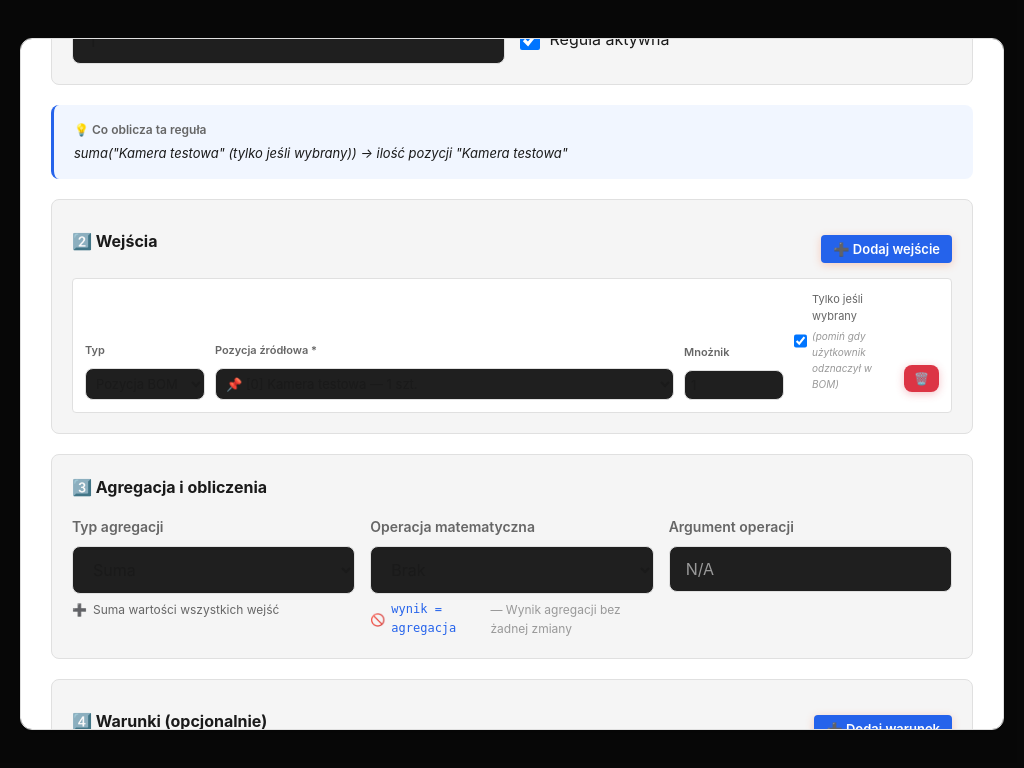
Scenario: TemplateDependencyRuleModal CONFIG_PARAM onlyIfSelected behavior › loads variable engine suggestions for CONFIG_PARAM input
(page scrolled)
Select "Parametr Wizarda" in the 1st dropdown. click: (145, 384)
box: x1=85 y1=368 x2=205 y2=400
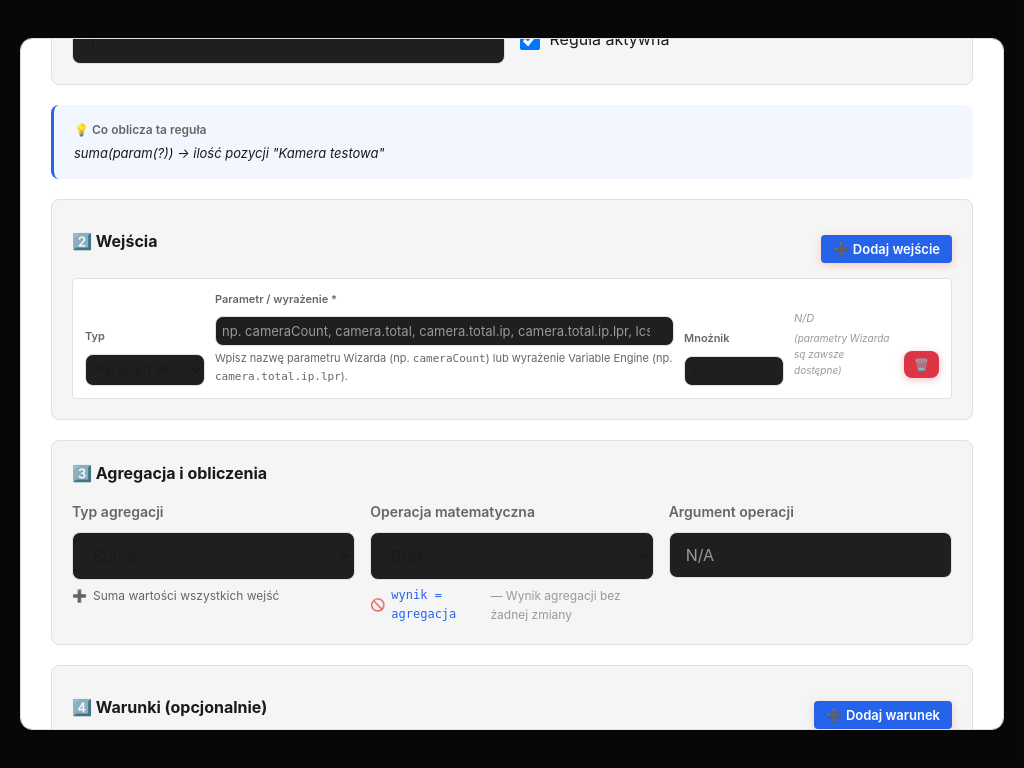
Expected: the field with placeholder "np. cameraCount, camera.total, camera.total.ip, camera.total.ip.lpr, lcsConfig.iloscKamer" is shown, x1=215 y1=316 x2=674 y2=346
Expected: the text "Wpisz nazwę parametru Wizarda" is shown, x1=215 y1=351 x2=413 y2=365
